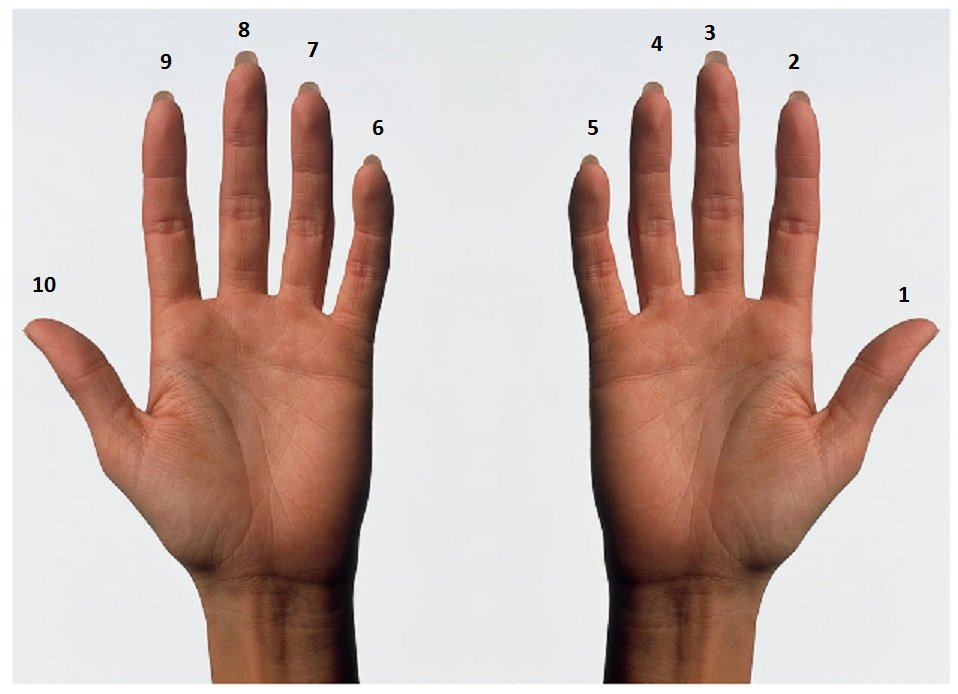finger: (683, 37, 762, 292), (626, 73, 697, 304), (138, 82, 208, 299), (346, 141, 418, 345), (220, 42, 272, 293), (561, 146, 632, 329), (772, 78, 824, 320), (284, 73, 333, 313)
